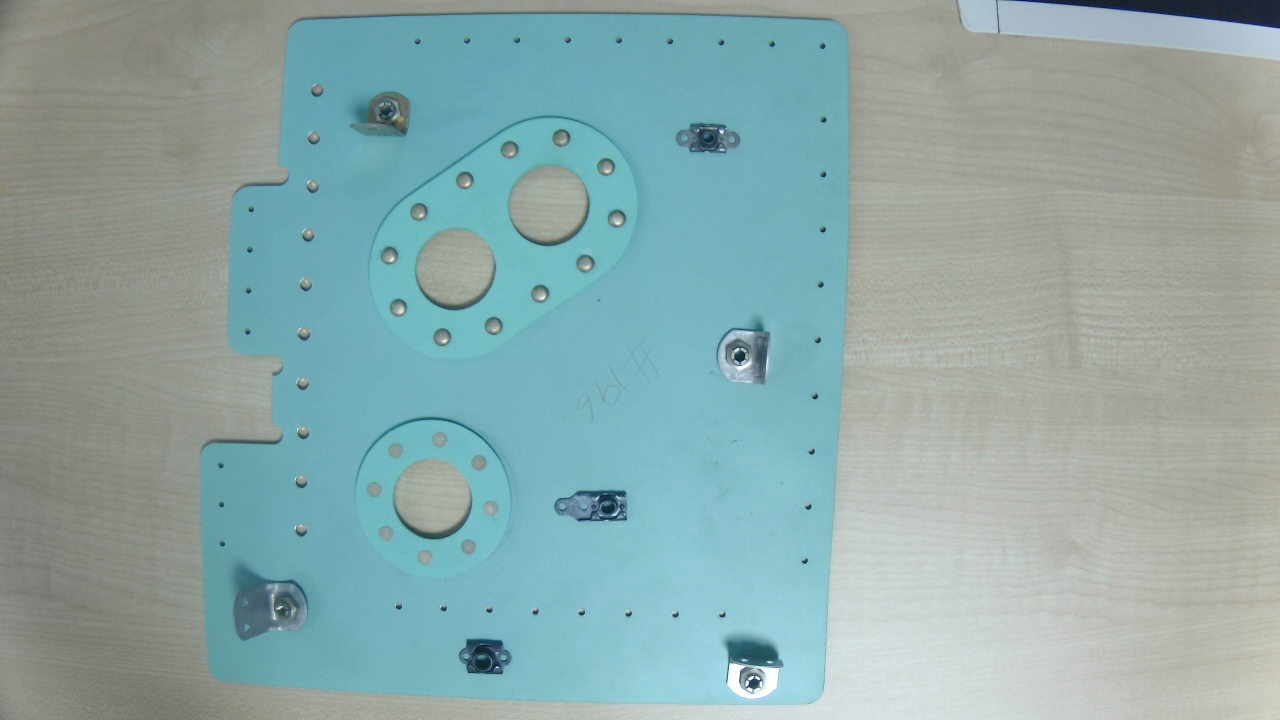hs_clip-0: (229, 577, 312, 643)
hs_clip-180: (712, 325, 774, 388)
hs_clip-270: (720, 649, 786, 701)
hs_clip-90: (347, 85, 415, 141)
nut_plate-0: (549, 486, 633, 526), (455, 635, 514, 679), (671, 120, 743, 155)
